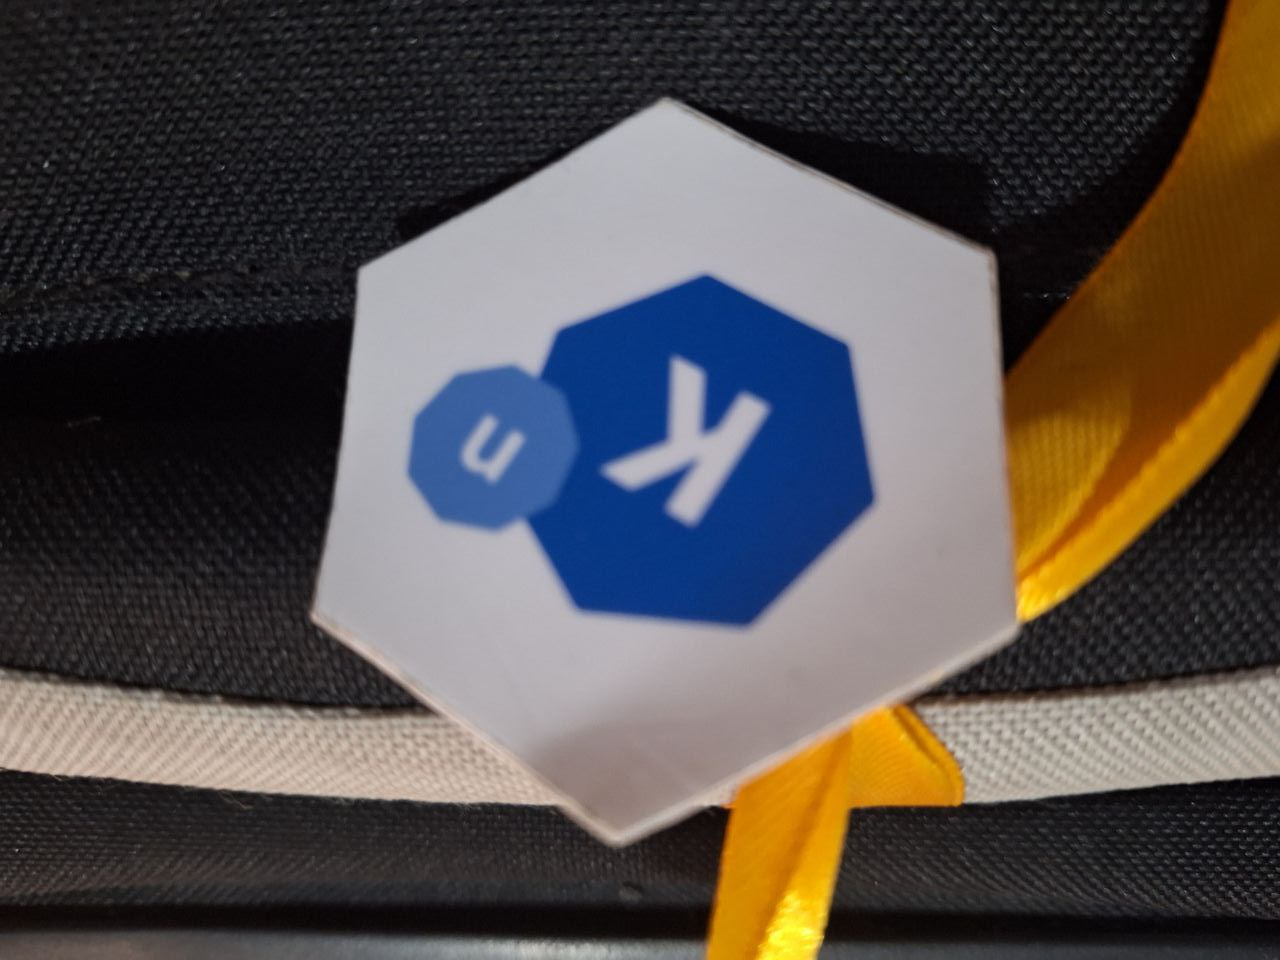knative: (407, 270, 878, 637)
